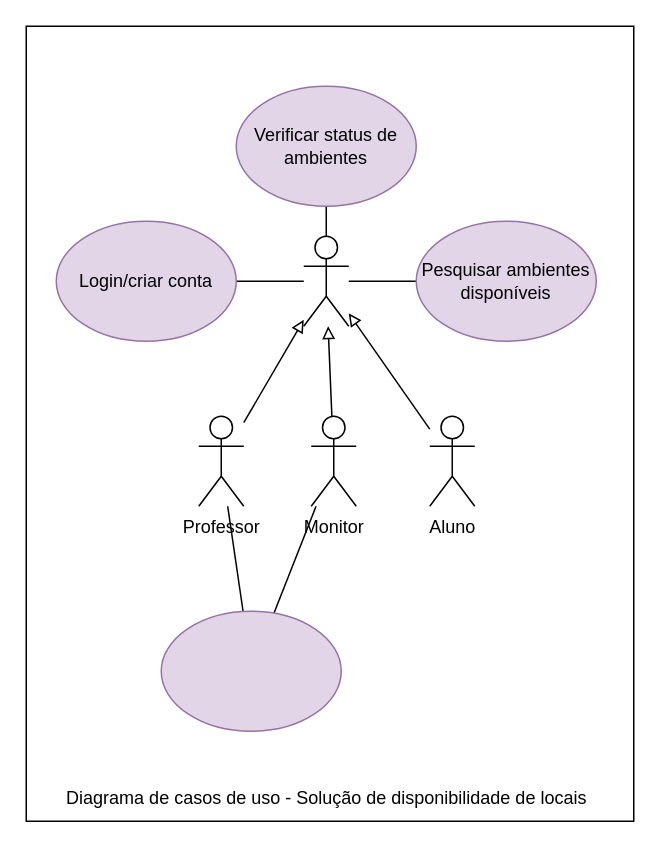
This 660x848 diagram has some shape labels left out. Each missing label, with the centre of its shape:
"Modifique status de algum ambiente" goes at point 250,670.
"Usuário" goes at point 325,280.
